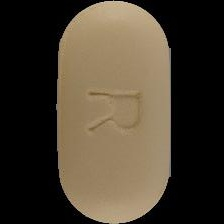55111-606: (0, 0, 224, 224)
